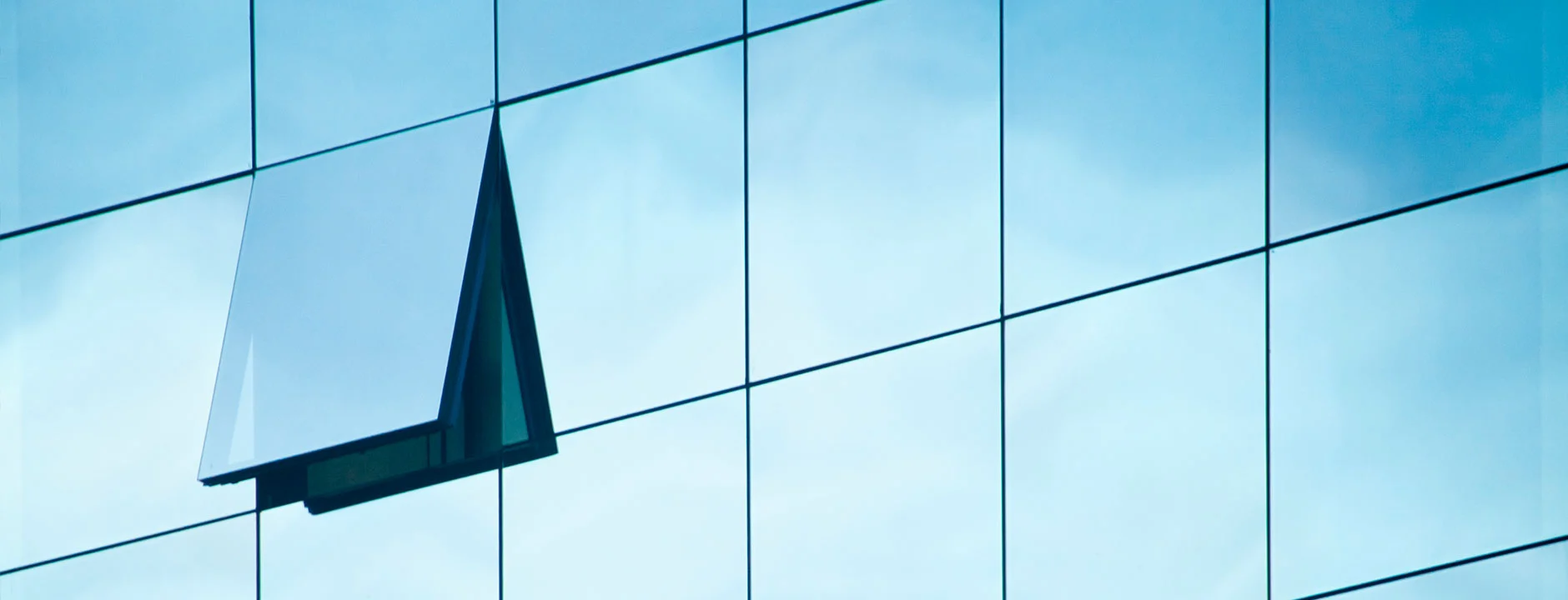glass_panel: (1271, 175, 1567, 597), (201, 113, 490, 477), (0, 179, 253, 569), (748, 0, 999, 377), (502, 45, 744, 429), (1006, 256, 1266, 599), (1003, 0, 1264, 310), (1270, 0, 1567, 238), (752, 326, 1002, 599), (0, 0, 249, 230), (502, 392, 746, 599), (255, 0, 493, 164), (260, 471, 500, 599), (499, 0, 741, 98), (0, 514, 255, 599), (1330, 542, 1567, 599), (747, 0, 851, 30)
